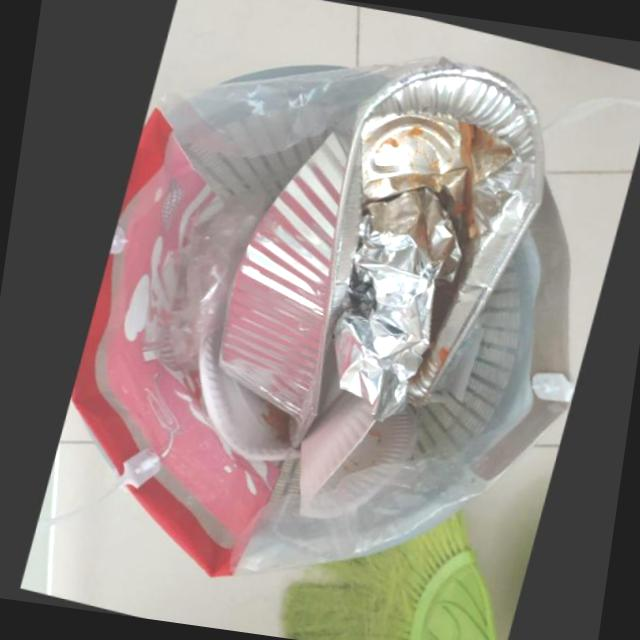carton: (298, 388, 416, 517), (197, 325, 299, 459)
nhom: (217, 60, 540, 439), (331, 184, 458, 419)
